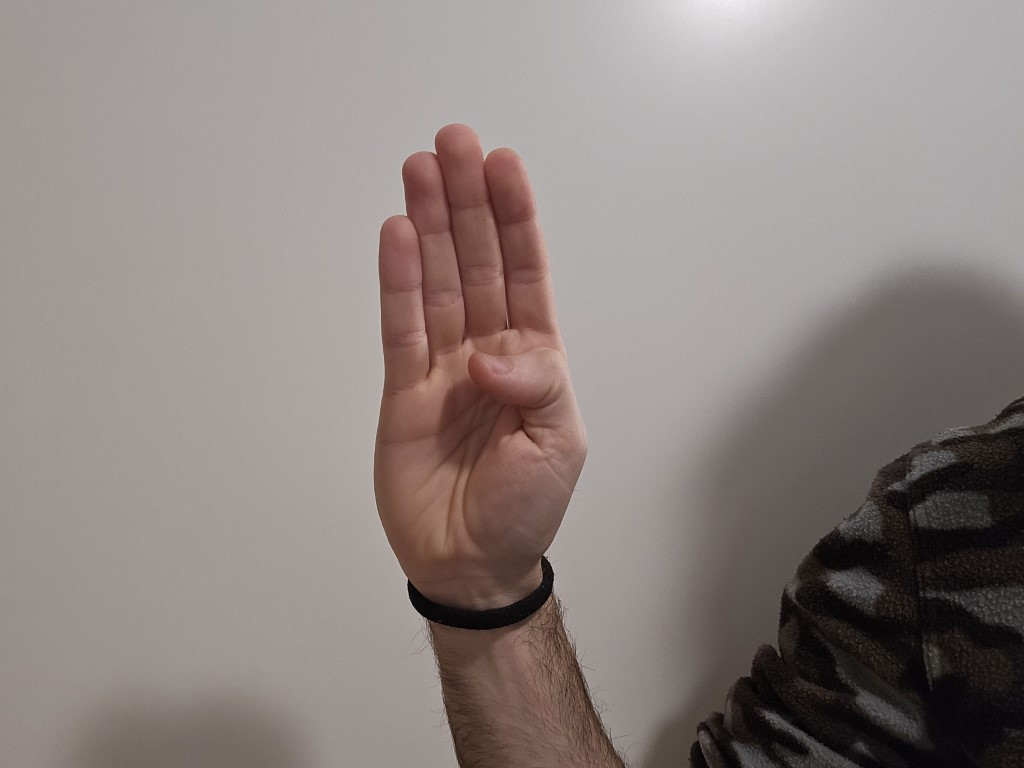b: (348, 112, 601, 571)
